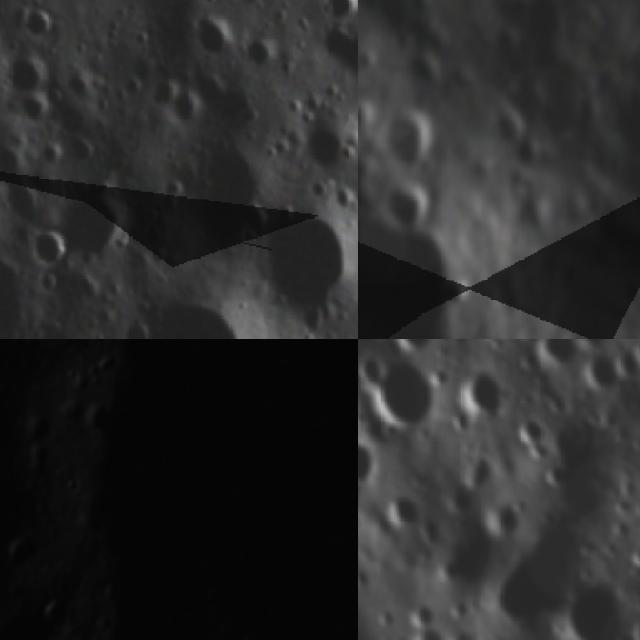crater: (54, 339, 358, 640), (480, 516, 589, 626), (358, 225, 458, 339), (258, 212, 358, 309), (99, 293, 259, 339), (361, 355, 452, 430), (54, 180, 134, 261), (560, 578, 638, 640), (371, 106, 429, 174), (305, 112, 358, 178), (458, 364, 507, 418), (384, 180, 430, 236), (477, 106, 528, 155), (317, 23, 358, 83), (24, 225, 74, 274), (2, 51, 52, 100), (0, 601, 50, 640), (579, 352, 620, 398), (483, 498, 524, 542), (188, 20, 230, 58), (22, 0, 56, 42), (385, 492, 421, 530), (457, 456, 498, 487), (6, 531, 43, 565), (358, 432, 378, 490), (406, 599, 440, 633), (358, 350, 389, 387), (515, 412, 552, 442), (38, 595, 70, 629), (83, 403, 120, 432), (539, 339, 581, 364), (615, 346, 640, 383), (248, 38, 278, 66), (608, 493, 639, 518), (116, 318, 151, 339), (546, 458, 570, 487), (608, 512, 634, 537), (448, 600, 474, 623), (324, 0, 358, 16), (411, 626, 445, 640), (626, 609, 640, 640), (605, 631, 640, 640), (629, 339, 640, 365), (635, 492, 640, 521)
